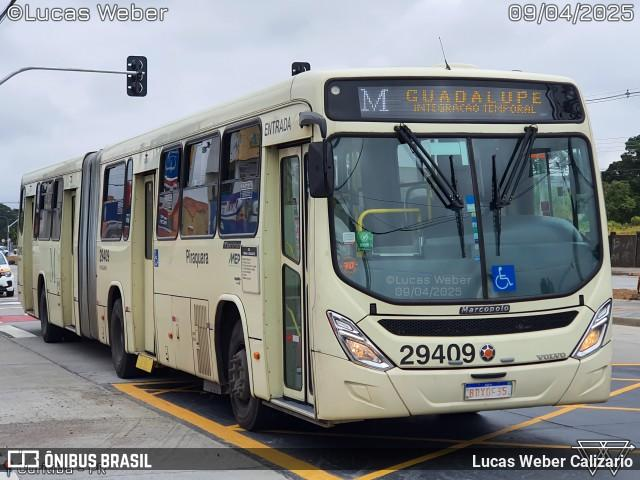GUADALUPE: (403, 85, 545, 107)
